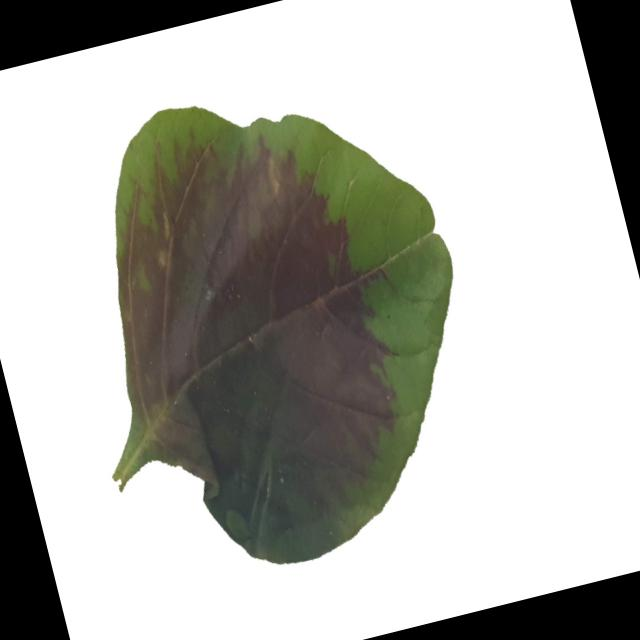Medicinal-Arive Dantu: (26, 48, 516, 604)
